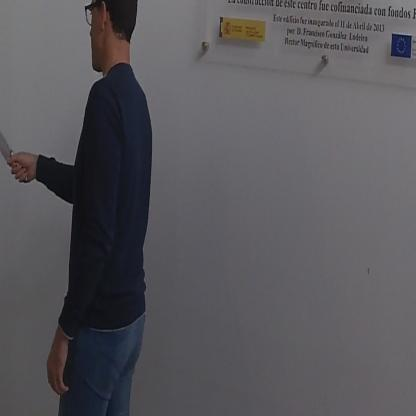knife: (0, 110, 29, 186)
